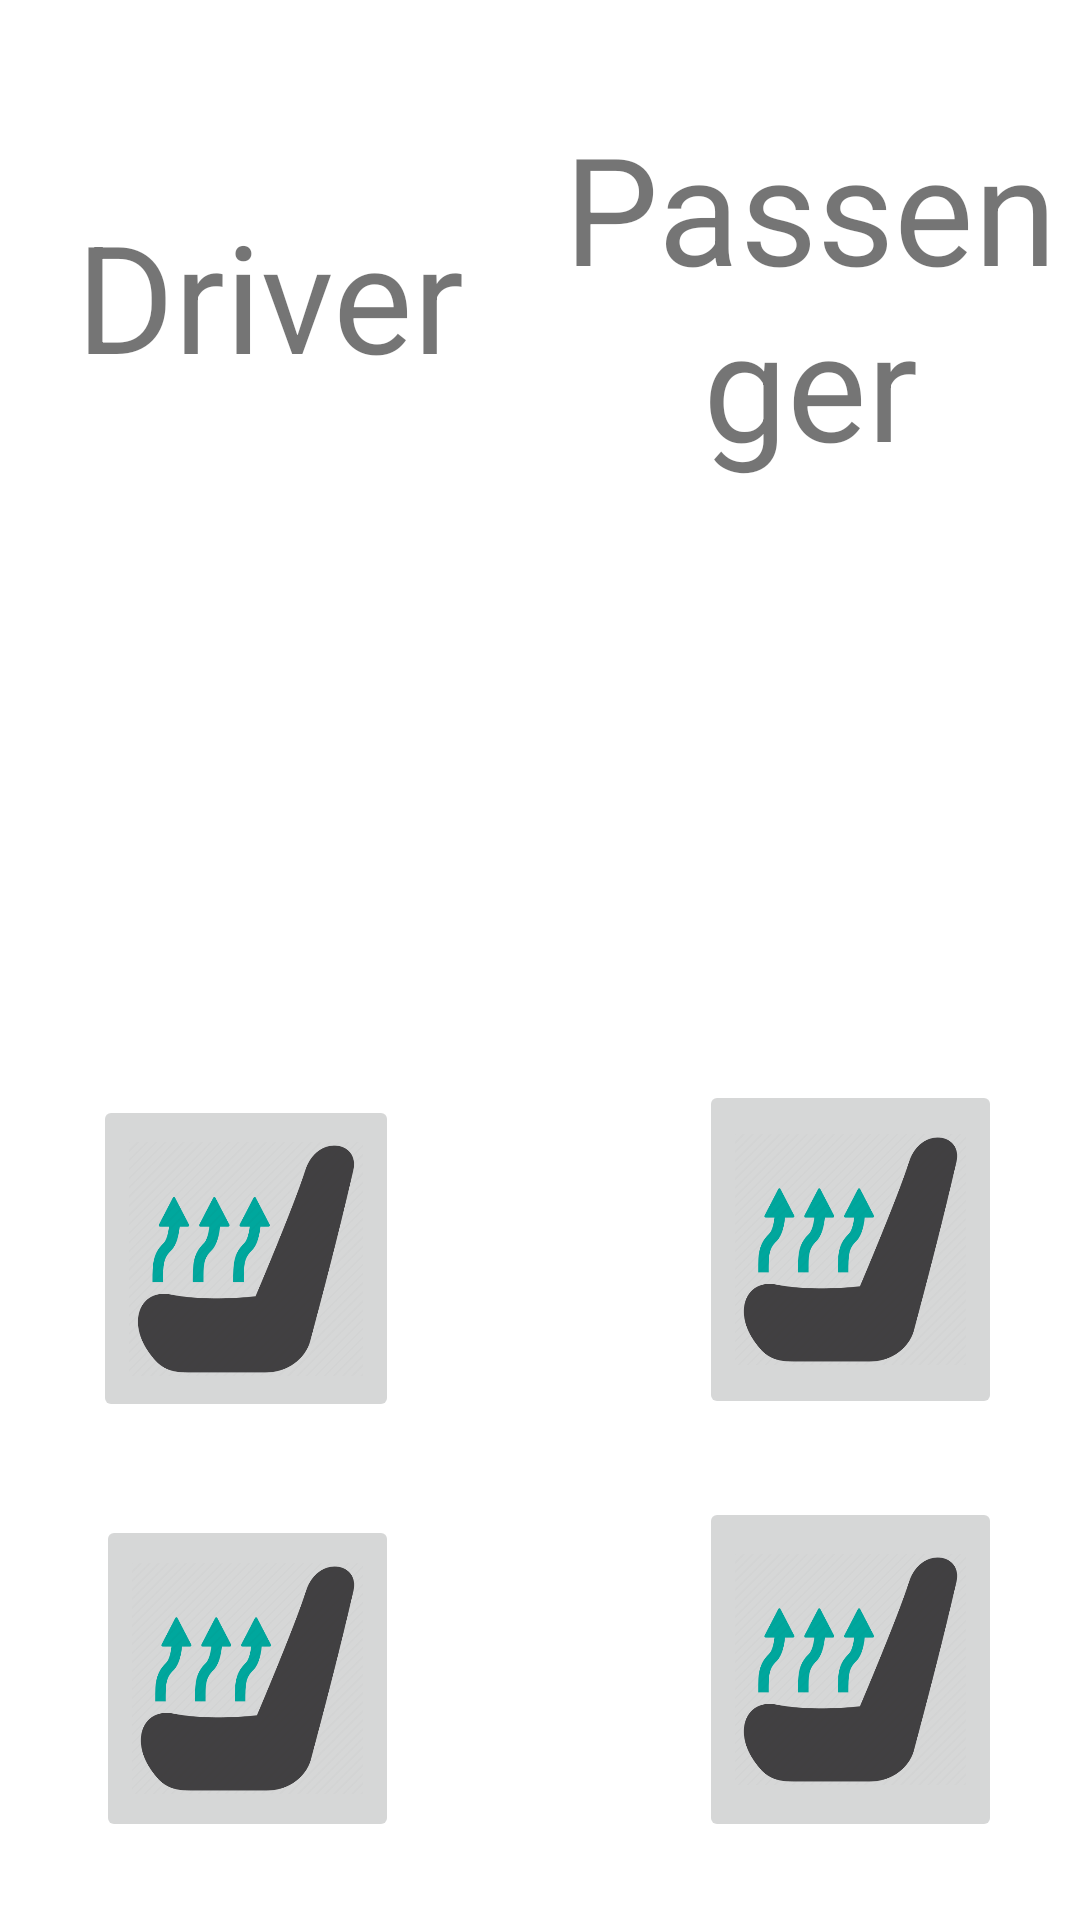

Screen size 1080 x 1920. Icon name, then its center in pixels as (x=x, y=y):
heatedseat: (x=850, y=1249), (x=246, y=1258), (x=850, y=1669), (x=247, y=1678)
